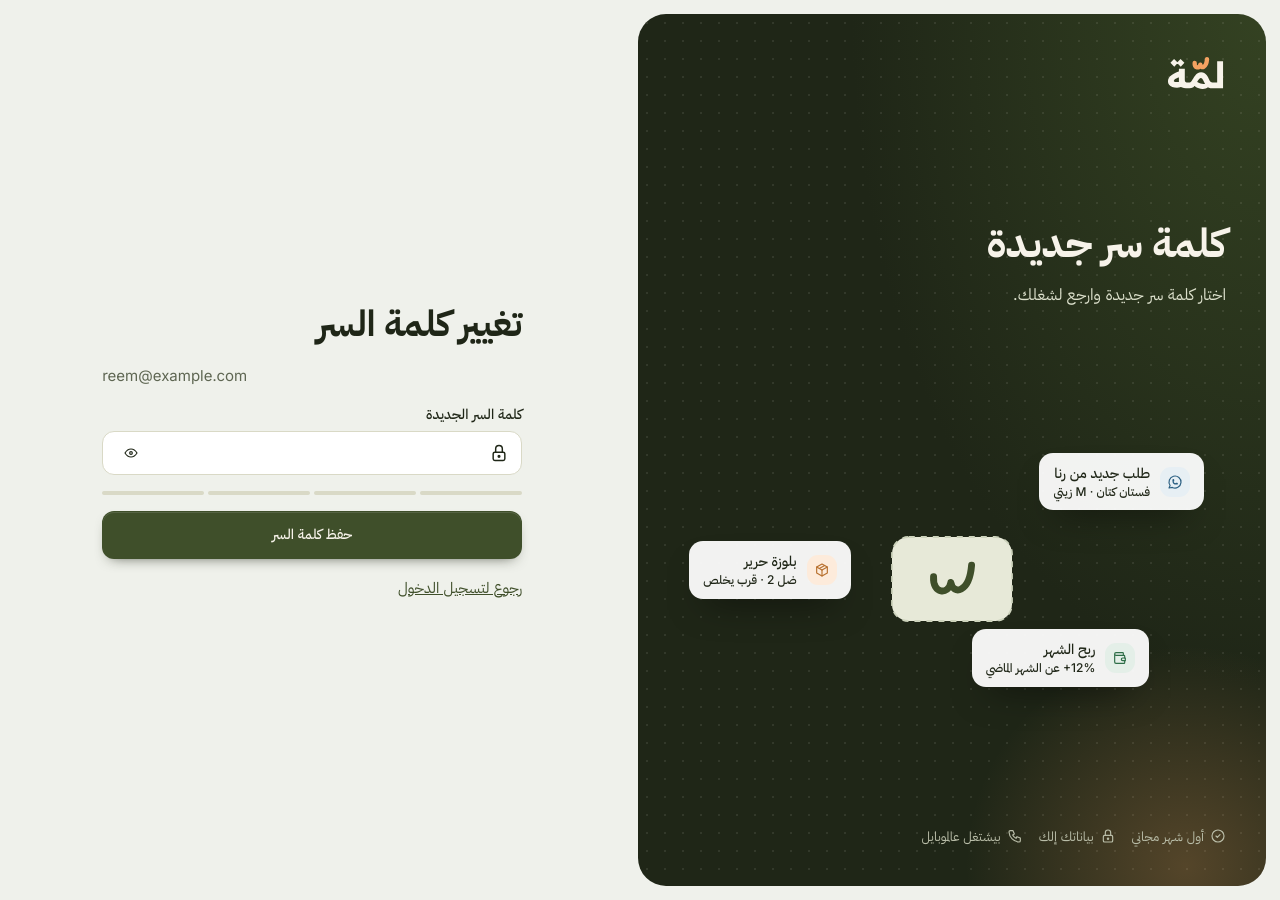
authentication pages › reset password handles a broken link, an invalid token and success
Later steps or results of the test are not shown.
Type "fresh2026" into the password field labelled "كلمة السر الجديدة". click: (318, 452)
box: [155,432,481,474]
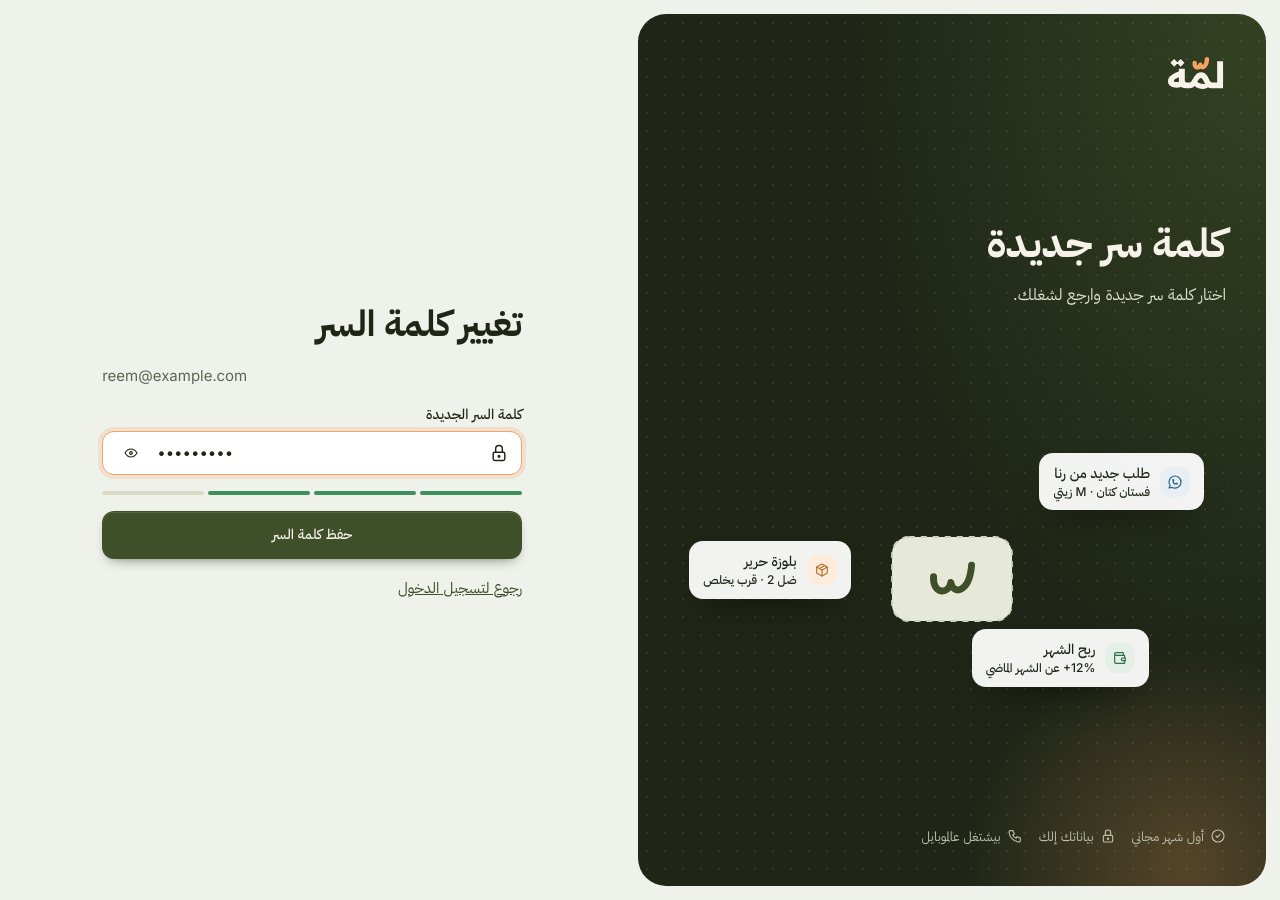
Click the button "حفظ كلمة السر". click: (312, 534)
box: [102,510,522,558]
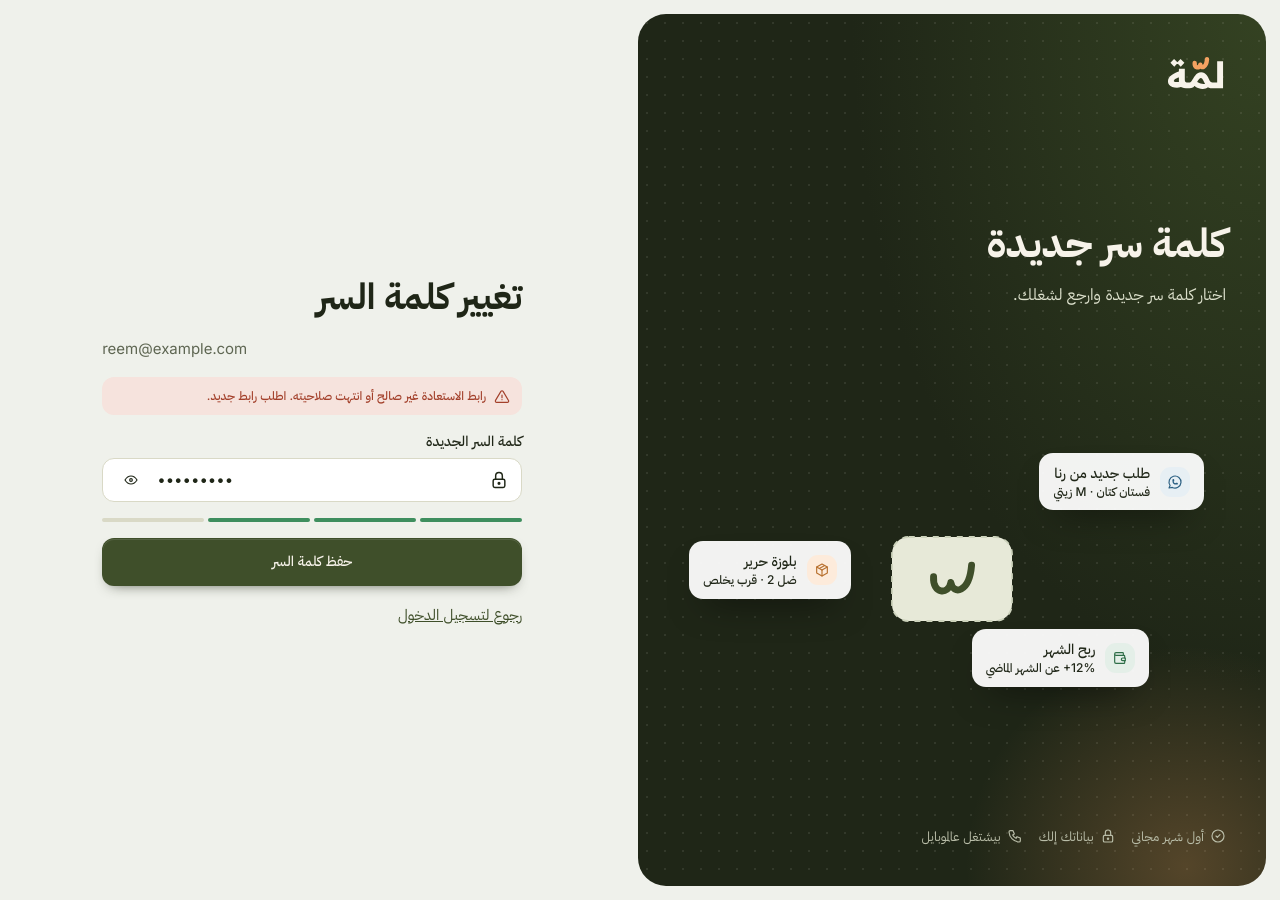
Expected: the text "رابط الاستعادة غير صالح أو انتهت صلاحيته. اطلب رابط جديد." is shown, [207,387,486,405]
